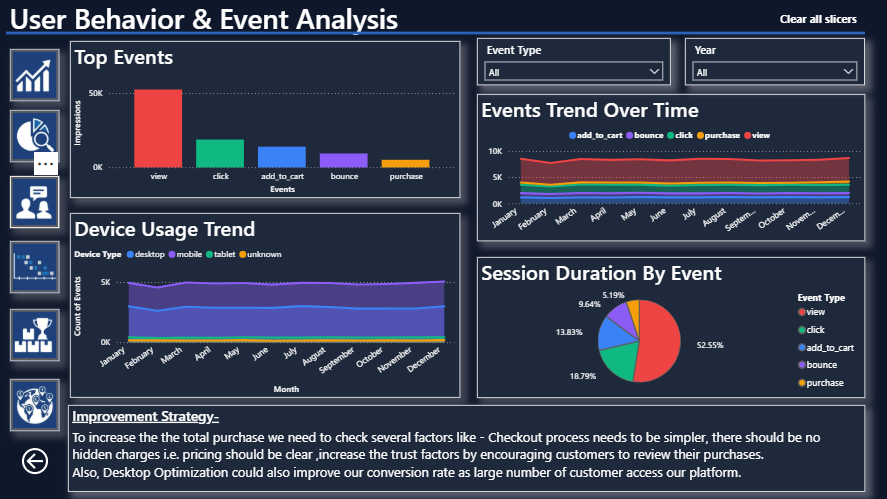

Layout of this report page (visuals, bound fields, positions):
{"tool":"powerbi","page":{"name":"Event/User Behavior Analysis","canvas":[1280,720],"ordinal":4},"visuals":[{"type":"textbox","title":"User Behavior & Event Analysis","box":[10.1,0,577.4,56.2],"z":0},{"type":"shape","box":[10.1,41.8,1237,14.4],"z":1000},{"type":"clusteredColumnChart","title":"Top Events","fields":{"Category":["events (2).event_type"],"Y":["Count(events (2).event_id)"]},"box":[102.2,60.5,561.6,226.1],"z":2000},{"type":"stackedAreaChart","title":"Events Trend Over Time","fields":{"Category":["events (2).datee.Variation.Date Hierarchy.Month"],"Series":["events (2).event_type"],"Y":["Count(events (2).event_id)"]},"box":[688.3,136.8,558.7,211.7],"z":3000},{"type":"areaChart","title":"Device Usage Trend","fields":{"Category":["events (2).datee.Variation.Date Hierarchy.Month"],"Series":["events (2).device_type"],"Y":["Count(events (2).event_id)"]},"box":[102.2,308.2,561.6,266.4],"z":4000},{"type":"pieChart","title":"Session Duration By Event","fields":{"Category":["events (2).event_type"],"Y":["Sum(events (2).session_duration_sec)"]},"box":[688.3,371.5,558.7,203],"z":5000},{"type":"slicer","title":"Year","fields":{"Values":["events (2).Year"]},"box":[987.8,56.2,259.2,67.7],"z":6000},{"type":"slicer","title":"Year","fields":{"Values":["events (2).event_type"]},"box":[688.3,56.2,279.4,67.7],"z":7000},{"type":"shape","box":[15.8,72,70.6,74.9],"z":8000},{"type":"shape","box":[15.8,159.8,70.6,74.9],"z":9000},{"type":"shape","box":[15.8,254.9,70.6,74.9],"z":10000},{"type":"shape","box":[15.8,348.5,70.6,74.9],"z":11000},{"type":"shape","box":[15.8,446.4,70.6,74.9],"z":12000},{"type":"shape","box":[15.8,547.2,70.6,74.9],"z":13000},{"type":"image","box":[15.8,72,70.6,74.9],"z":14000},{"type":"image","box":[15.8,159.8,70.6,74.9],"z":15000},{"type":"image","box":[15.8,254.9,70.6,74.9],"z":16000},{"type":"image","box":[15.8,348.5,70.6,74.9],"z":17000},{"type":"image","box":[15.8,446.4,70.6,74.9],"z":18000},{"type":"image","box":[15.8,547.2,70.6,74.9],"z":19000},{"type":"actionButton","box":[15.8,72,70.6,74.9],"z":20000},{"type":"actionButton","box":[15.8,159.8,70.6,74.9],"z":21000},{"type":"actionButton","box":[15.8,254.9,70.6,74.9],"z":22000},{"type":"actionButton","box":[15.8,348.5,70.6,74.9],"z":23000},{"type":"actionButton","box":[15.8,547.2,70.6,74.9],"z":24000},{"type":"actionButton","box":[15.8,446.4,70.6,74.9],"z":25000},{"type":"actionButton","box":[27.4,637.9,49,54.7],"z":26000},{"type":"actionButton","box":[1103,7.2,154.1,41.8],"z":27000},{"type":"textbox","title":"Improvement Strategy-","box":[99.4,584.6,1147.7,125.3],"z":28000}]}

Visuals, with their boxes on the page's 1280x720 design canvas (x1, y1, x2, y2). These are canvas units, not pixel positions in the 887x499 screenshot, which may show the page scaled, cropped or inside an application window:
"User Behavior & Event Analysis" textbox: bbox=[10, 0, 588, 56]
shape: bbox=[10, 42, 1247, 56]
"Top Events" clusteredColumnChart: bbox=[102, 60, 664, 287]
"Events Trend Over Time" stackedAreaChart: bbox=[688, 137, 1247, 348]
"Device Usage Trend" areaChart: bbox=[102, 308, 664, 575]
"Session Duration By Event" pieChart: bbox=[688, 372, 1247, 574]
"Year" slicer: bbox=[988, 56, 1247, 124]
"Year" slicer: bbox=[688, 56, 968, 124]
shape: bbox=[16, 72, 86, 147]
shape: bbox=[16, 160, 86, 235]
shape: bbox=[16, 255, 86, 330]
shape: bbox=[16, 348, 86, 423]
shape: bbox=[16, 446, 86, 521]
shape: bbox=[16, 547, 86, 622]
image: bbox=[16, 72, 86, 147]
image: bbox=[16, 160, 86, 235]
image: bbox=[16, 255, 86, 330]
image: bbox=[16, 348, 86, 423]
image: bbox=[16, 446, 86, 521]
image: bbox=[16, 547, 86, 622]
actionButton: bbox=[16, 72, 86, 147]
actionButton: bbox=[16, 160, 86, 235]
actionButton: bbox=[16, 255, 86, 330]
actionButton: bbox=[16, 348, 86, 423]
actionButton: bbox=[16, 547, 86, 622]
actionButton: bbox=[16, 446, 86, 521]
actionButton: bbox=[27, 638, 76, 693]
actionButton: bbox=[1103, 7, 1257, 49]
"Improvement Strategy-" textbox: bbox=[99, 585, 1247, 710]
